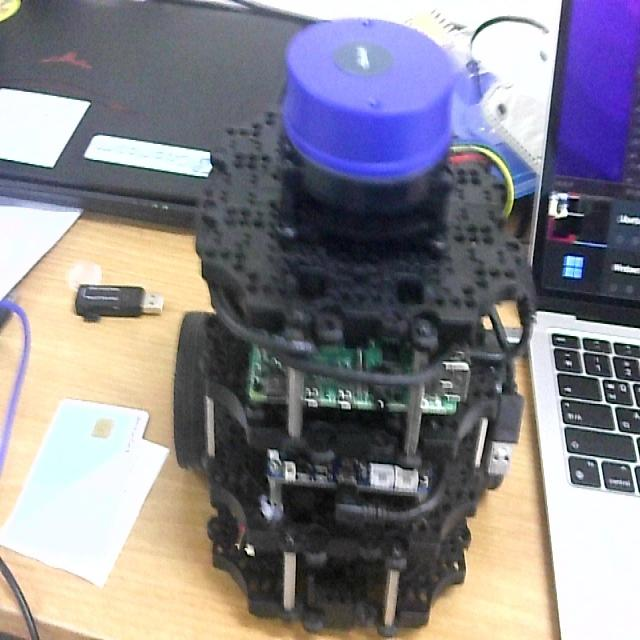turtle: (170, 16, 536, 640)
